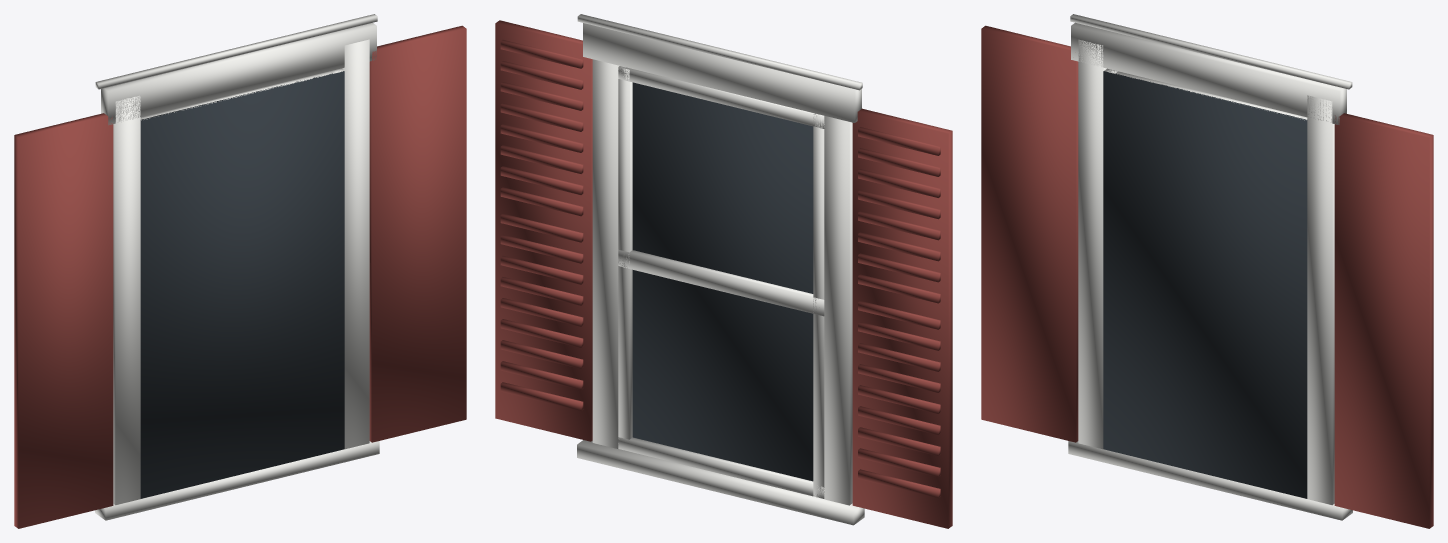
Rendered from hp_win_shr.glb.
3 renders of one model, left to right at view 1: azimuth 30°, elevation 25°; view 2: azimuth 150°, elevation 25°; view 3: azimuth 330°, elevation 25°, orthographic.
Visible parts, largest first — view 1: hp_win_shr; view 2: hp_win_shr; view 3: hp_win_shr.
Boxes of the visible parts, bbox=[...] form: hp_win_shr: bbox=[14, 14, 466, 528]; hp_win_shr: bbox=[495, 14, 952, 528]; hp_win_shr: bbox=[981, 14, 1433, 528].
Bounding box in the file's own units: 1.8 × 1.66 × 0.075.
